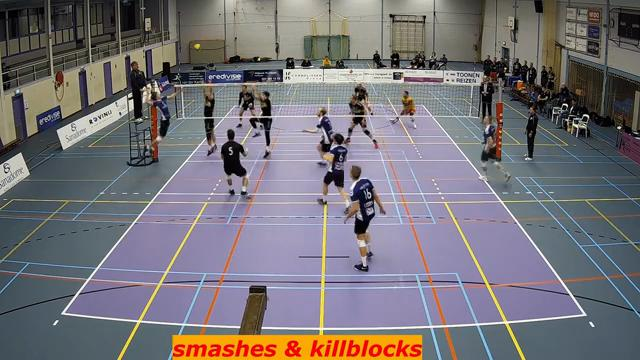Attack: (141, 83, 185, 151)
Block: (197, 79, 220, 162)
Player: (344, 166, 385, 271), (318, 133, 349, 213), (479, 116, 510, 180), (221, 129, 248, 196), (302, 107, 332, 165), (346, 94, 378, 148), (253, 85, 272, 158), (236, 85, 255, 127), (400, 91, 416, 128), (355, 83, 373, 115)
ball: (194, 42, 201, 51)
